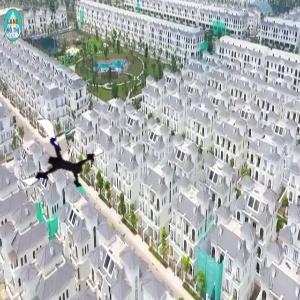drone: (18, 124, 97, 203)
